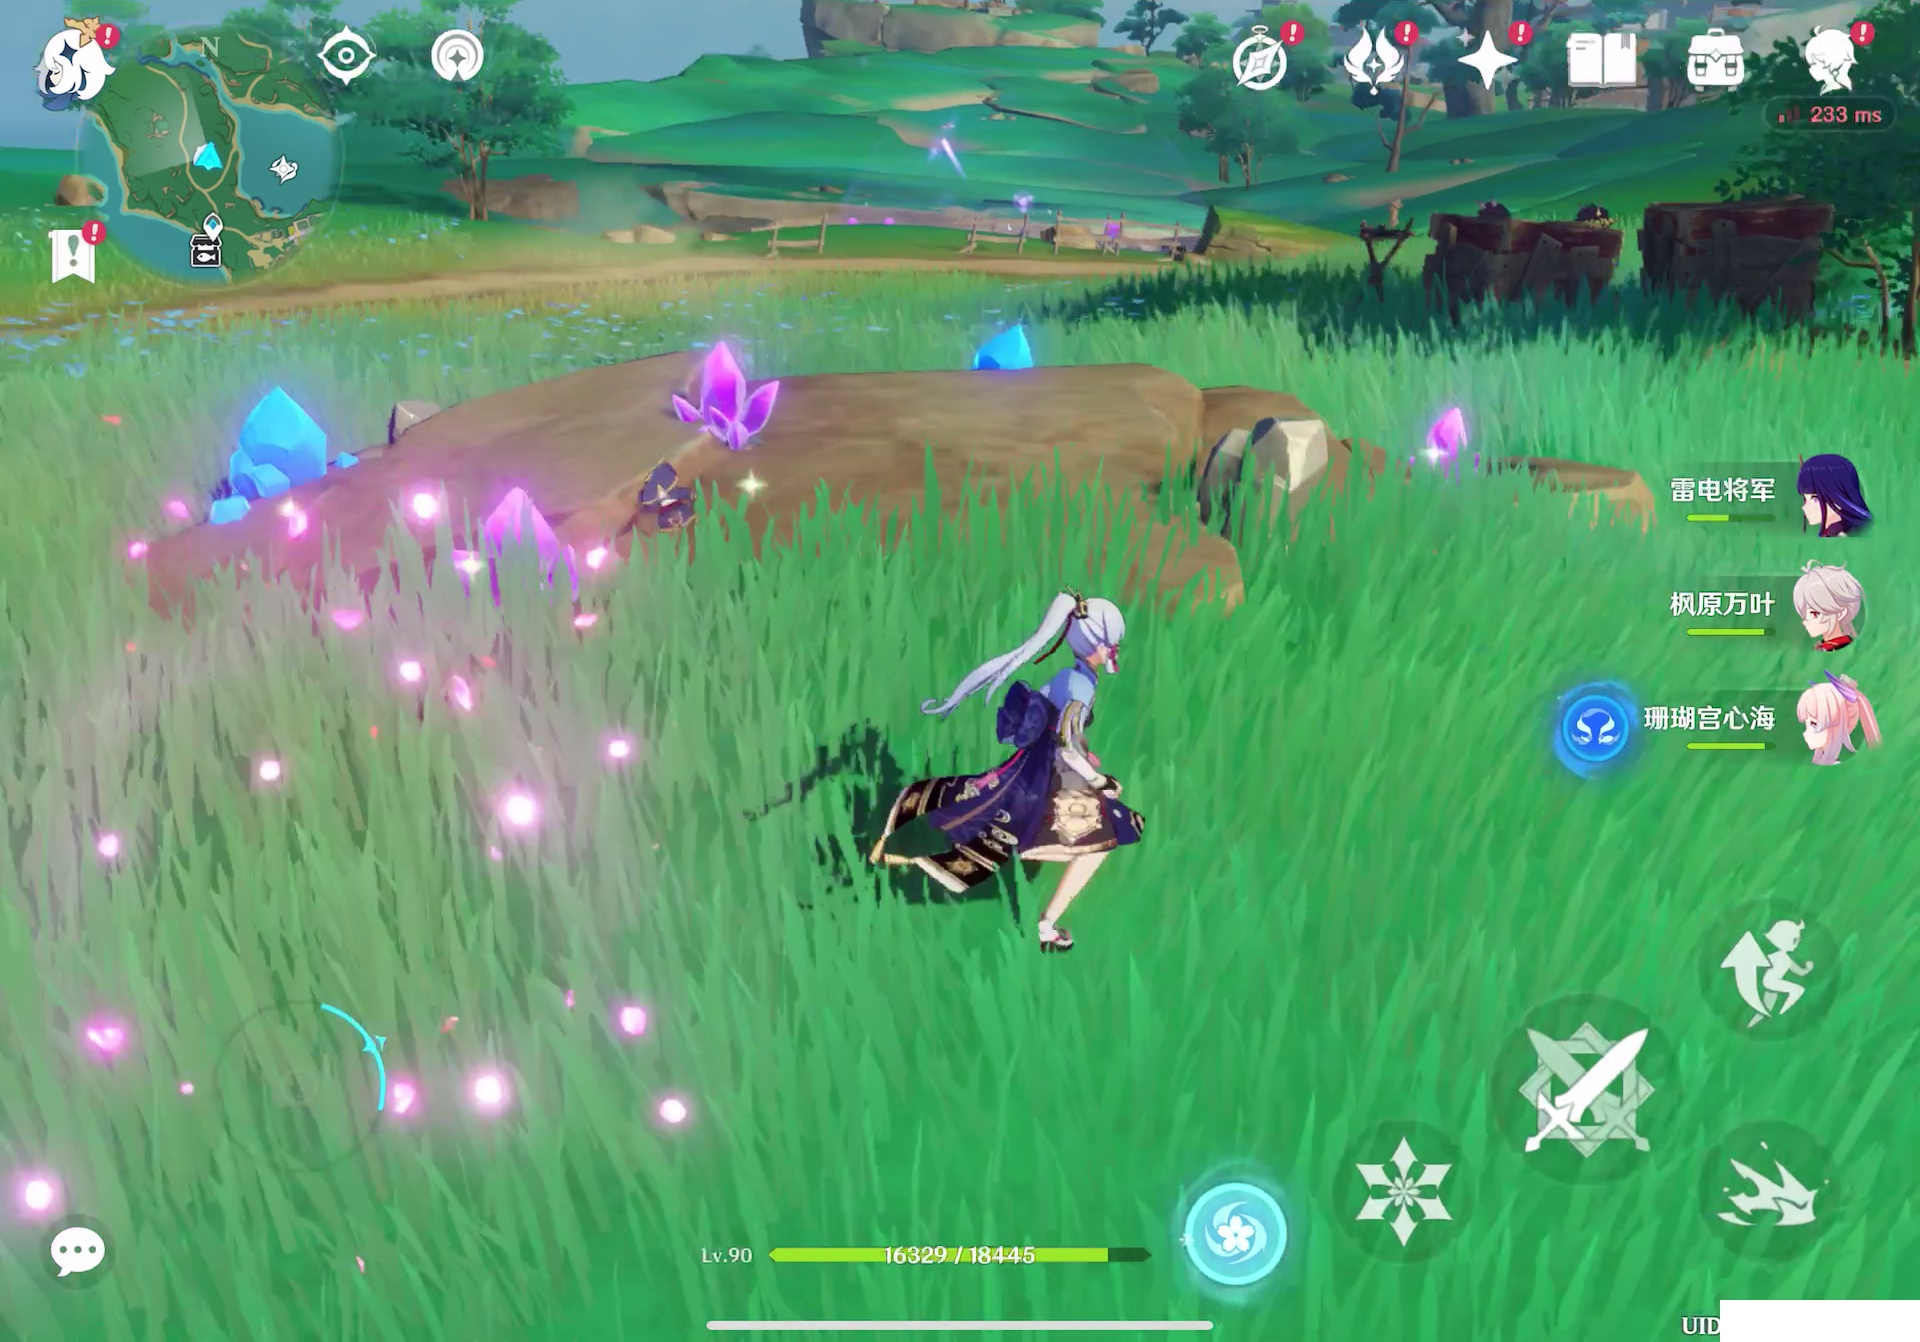白铁矿石: (1204, 404, 1371, 534), (379, 392, 446, 439)
神里绫龟: (874, 573, 1174, 944)
紫矿石: (454, 494, 594, 616), (667, 349, 783, 452), (1420, 413, 1501, 477)
蓝矿石: (220, 373, 355, 503), (963, 324, 1053, 384)
